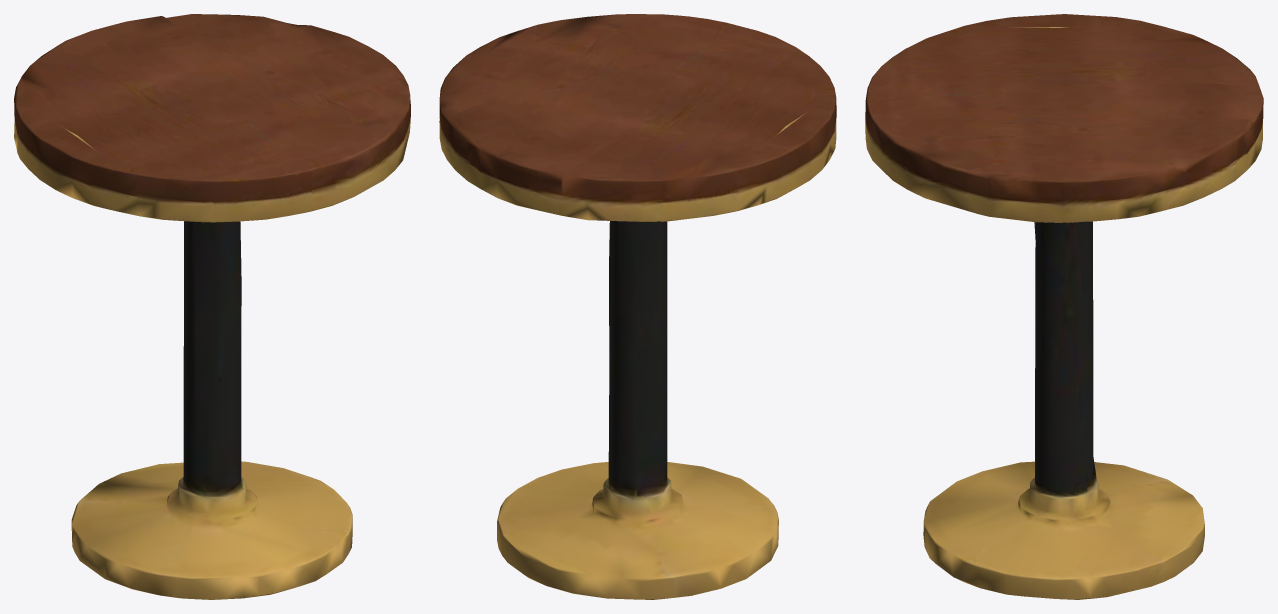
Rendered from hightop.glb.
The picture shows the model from 3 angles, left to right: view 1: azimuth 30°, elevation 25°; view 2: azimuth 150°, elevation 25°; view 3: azimuth 270°, elevation 25°; orthographic projection.
Parts seen in each view (by area): view 1: tripo_node_3f1c7f9b-ba9f-4ff8-949b-203a59f2e69b; view 2: tripo_node_3f1c7f9b-ba9f-4ff8-949b-203a59f2e69b; view 3: tripo_node_3f1c7f9b-ba9f-4ff8-949b-203a59f2e69b.
Boxes of the visible parts, <box> form: tripo_node_3f1c7f9b-ba9f-4ff8-949b-203a59f2e69b: <box>14,14,410,599</box>; tripo_node_3f1c7f9b-ba9f-4ff8-949b-203a59f2e69b: <box>439,14,836,599</box>; tripo_node_3f1c7f9b-ba9f-4ff8-949b-203a59f2e69b: <box>865,14,1263,599</box>.
Bounding box in the file's own units: 0.7932 × 0.9805 × 0.7954.
1 material, 1 textured.
